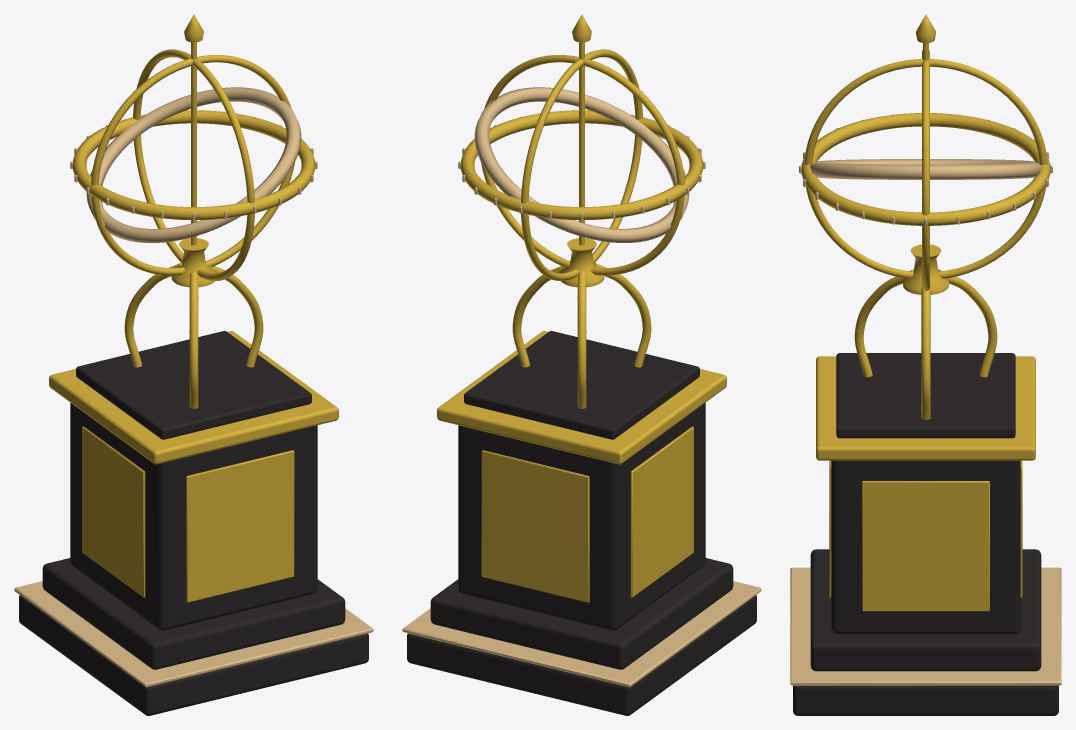
The model's file is statue.glb.
The picture shows the model from 3 angles, left to right: view 1: azimuth 30°, elevation 25°; view 2: azimuth 150°, elevation 25°; view 3: azimuth 270°, elevation 25°; orthographic projection. The views are drawn at different scales.
Parts seen in each view (by area): view 1: statue_marble, statue_gold, statue_brass; view 2: statue_marble, statue_gold, statue_brass; view 3: statue_marble, statue_gold, statue_brass.
Boxes of the visible parts, x1,y1,x2,y2 form: statue_marble: (19, 331, 368, 715); statue_gold: (49, 14, 338, 602); statue_brass: (14, 87, 373, 687); statue_marble: (407, 331, 756, 715); statue_gold: (437, 14, 726, 602); statue_brass: (402, 87, 761, 687); statue_marble: (793, 353, 1058, 715); statue_gold: (801, 14, 1050, 611); statue_brass: (790, 114, 1061, 685).
Size of the model in its own units: 1.06 by 2.79 by 1.06.
